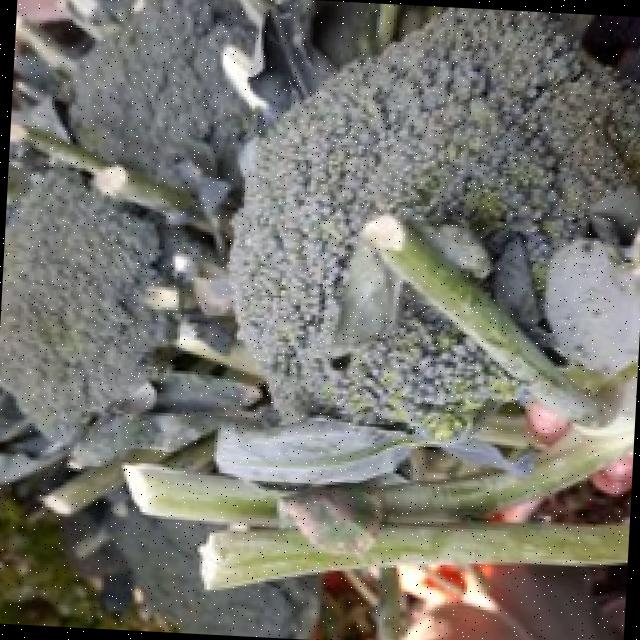Broccoli: (229, 7, 640, 436), (229, 7, 640, 434), (0, 168, 160, 442), (0, 168, 159, 441), (69, 0, 254, 185), (69, 0, 253, 186)
